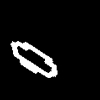chain: (11, 41, 56, 77)
